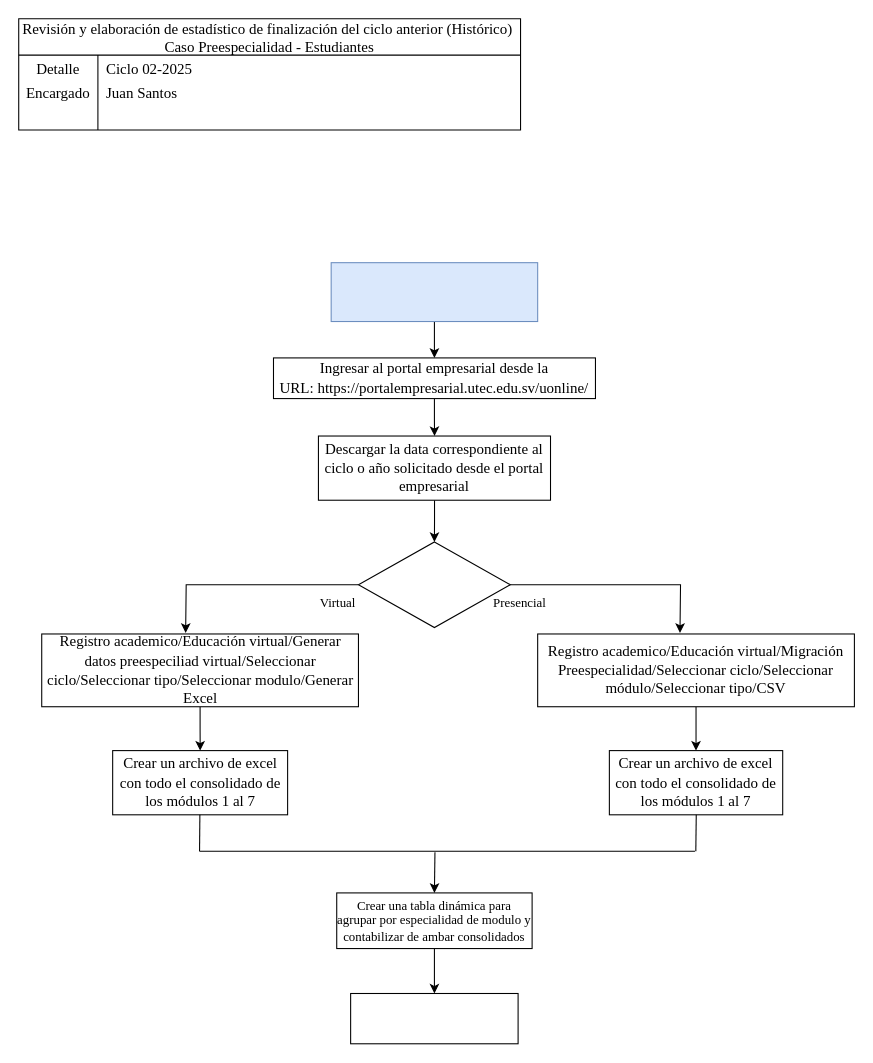
This 873x1063 diagram has some shape labels left out. Here are the shapes that lost their labels. From the top down, the box of each, then its label:
(330, 262, 538, 322): Revisión y elaboración de estadístico de finalización del ciclo anterior
(357, 541, 510, 628): Virtual o Presencial?
(350, 992, 518, 1044): Trasladar datos obtenidos al documento de Excel con el histórico según carrera
